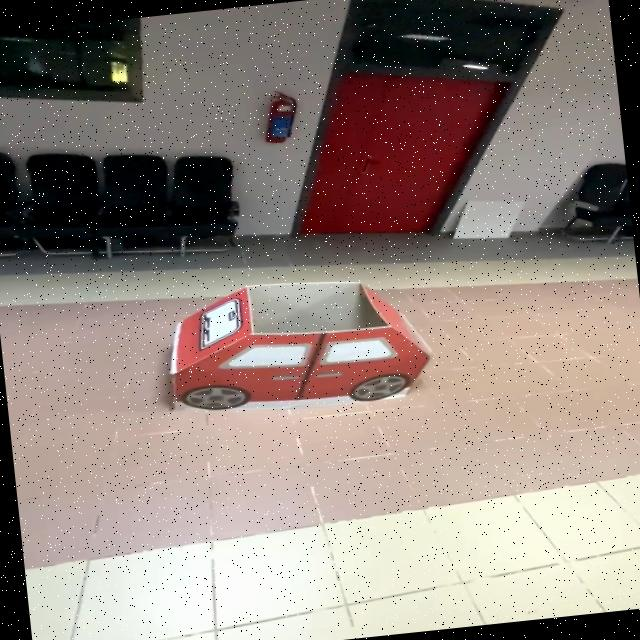red_car: (125, 249, 470, 450)
